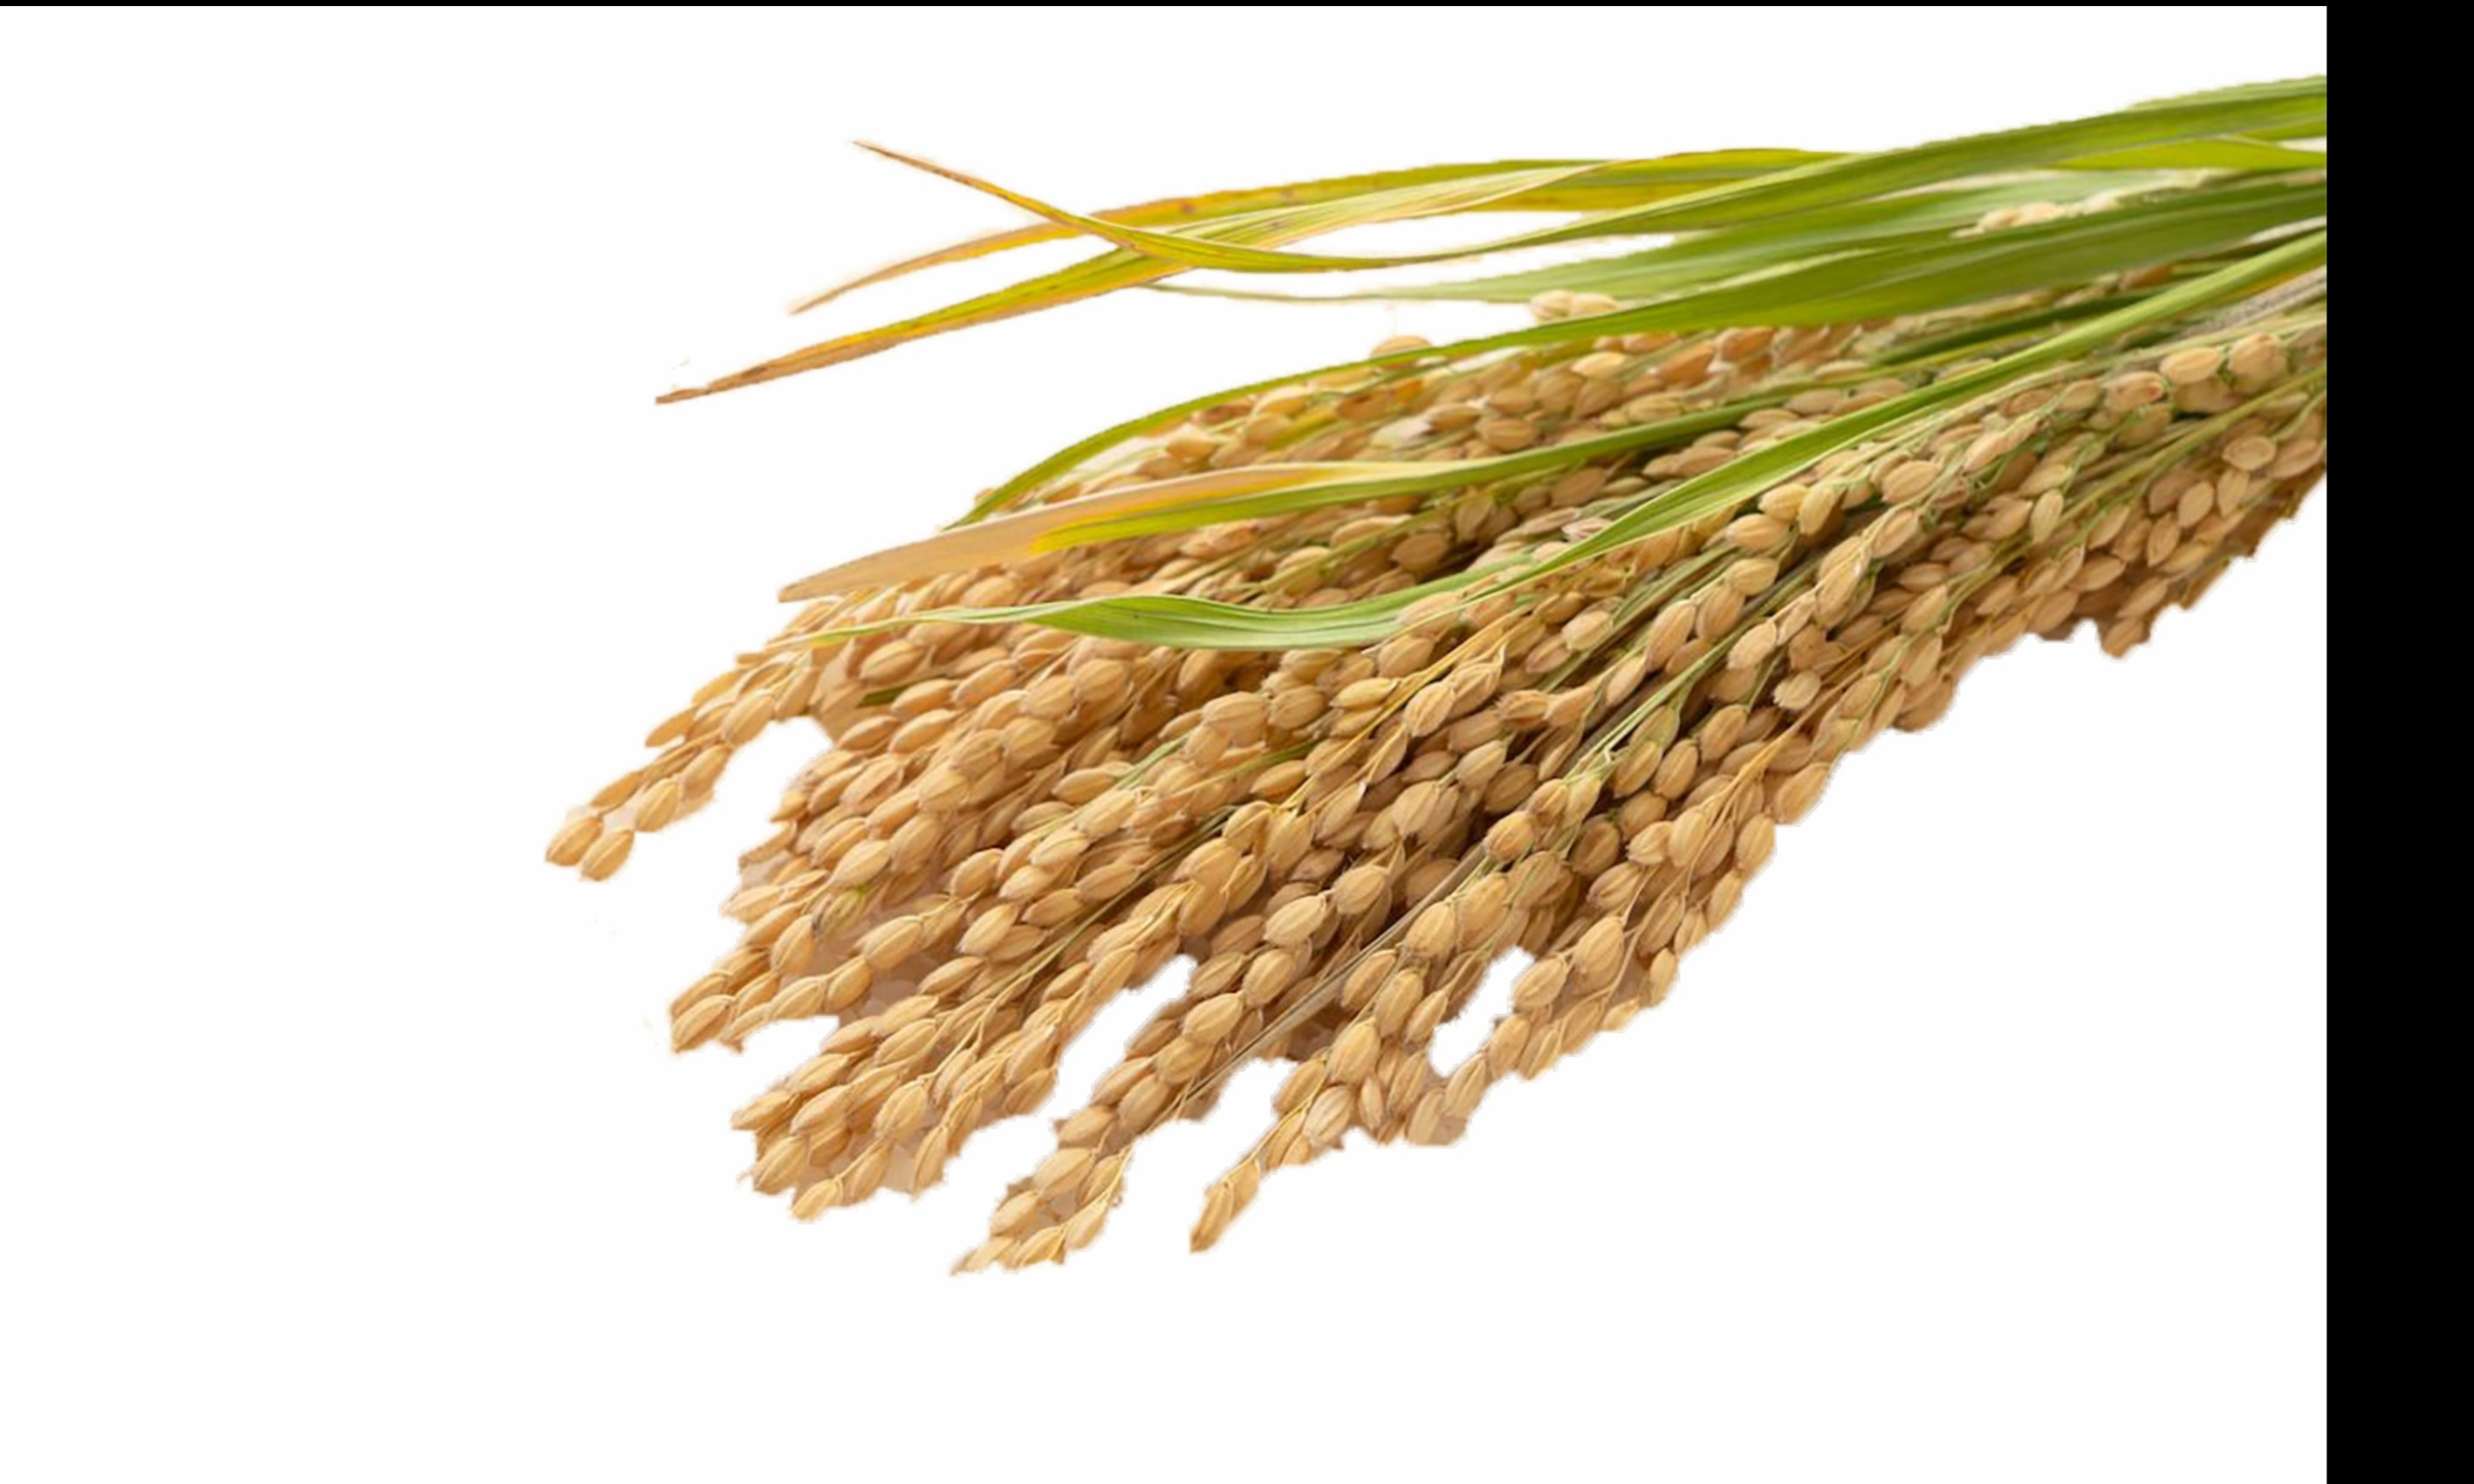rice: (497, 196, 2324, 1298)
